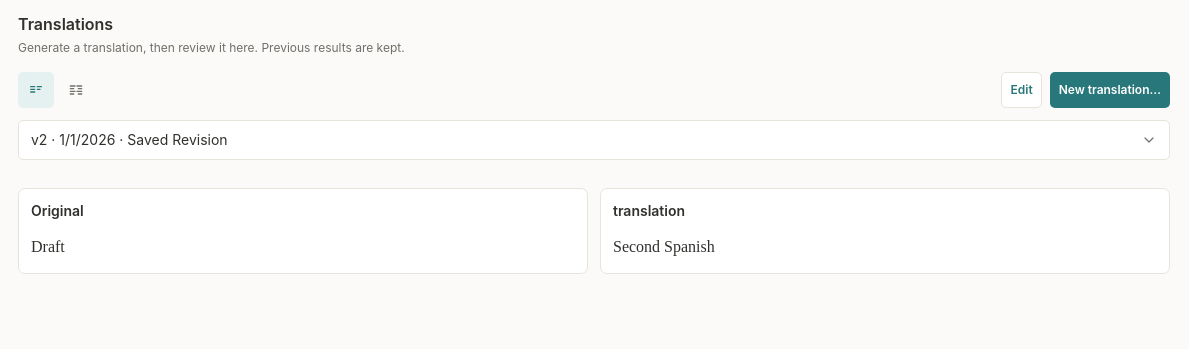
it: fresh translation review › uses selected result freshness and protected spans independently
Expected: the button "Edit" is enabled, [1002,72,1042,108]
Click the button with aria-label "Translation result" at [129, 140], box [18,120,1170,160]
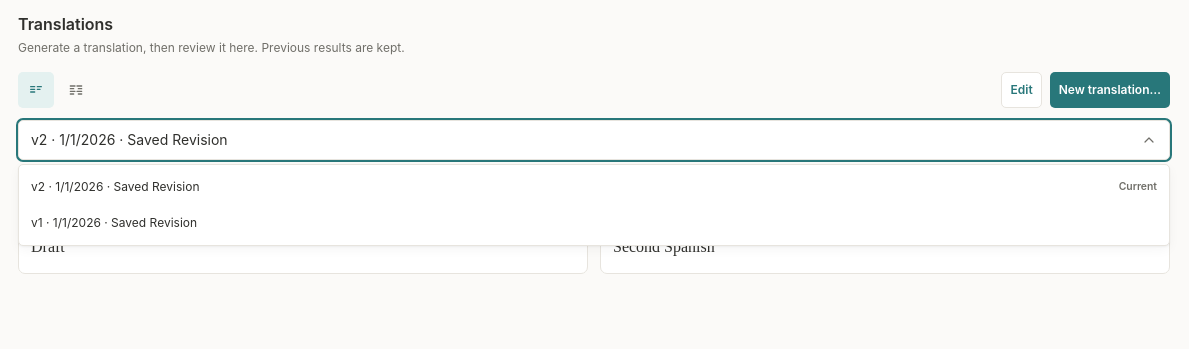
Click the menu item "v1 · 1/1/2026 · Saved Revision" at [114, 222], box [23,205,1165,241]
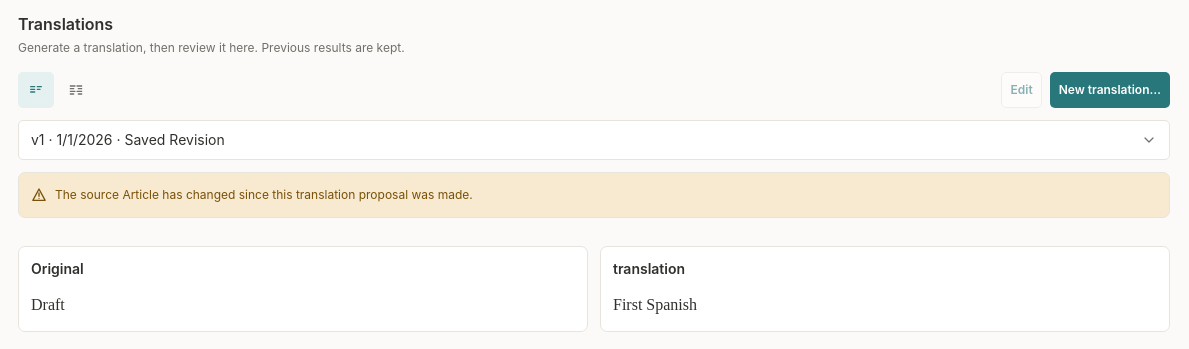
Now the button "Edit" is disabled, box [1002,72,1042,108]
